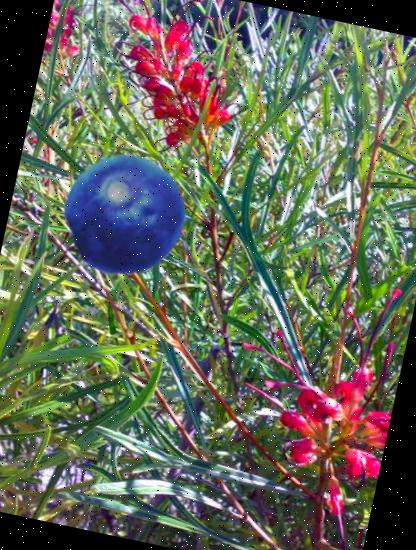Huckleberry: (53, 141, 199, 287)
